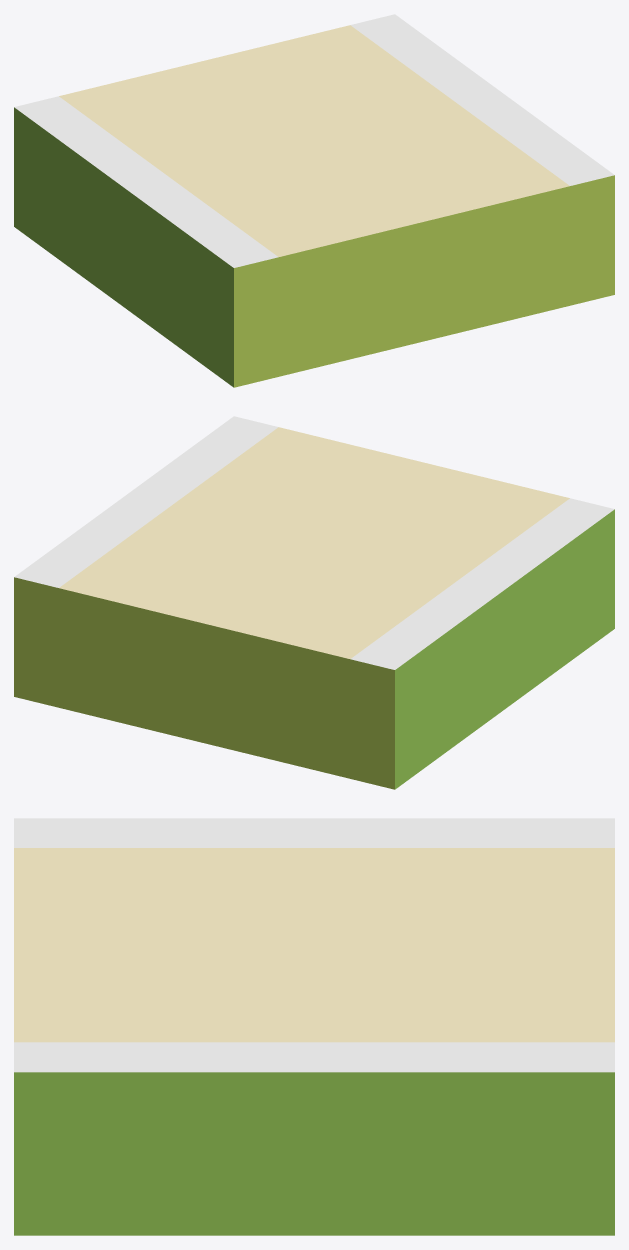
The model's file is floor_basic3.fbx.
The picture shows the model from 3 angles, top to bottom: view 1: azimuth 30°, elevation 25°; view 2: azimuth 150°, elevation 25°; view 3: azimuth 270°, elevation 25°; orthographic projection. The views are drawn at different scales.
Parts seen in each view (by area): view 1: floor_basic3; view 2: floor_basic3; view 3: floor_basic3.
Boxes of the visible parts, x1,y1,x2,y2 form: floor_basic3: [14, 14, 614, 387]; floor_basic3: [14, 416, 614, 789]; floor_basic3: [14, 818, 614, 1235].
Size of the model in its own units: 100 by 30 by 100.
